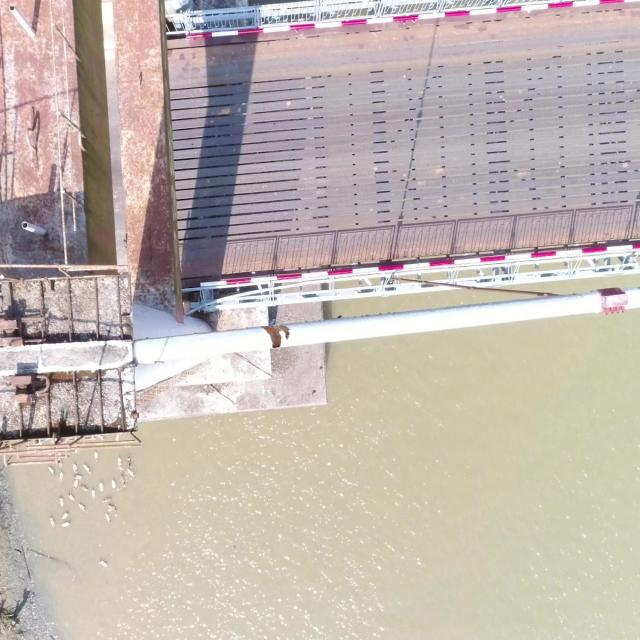corrosion: (261, 325, 291, 348)
